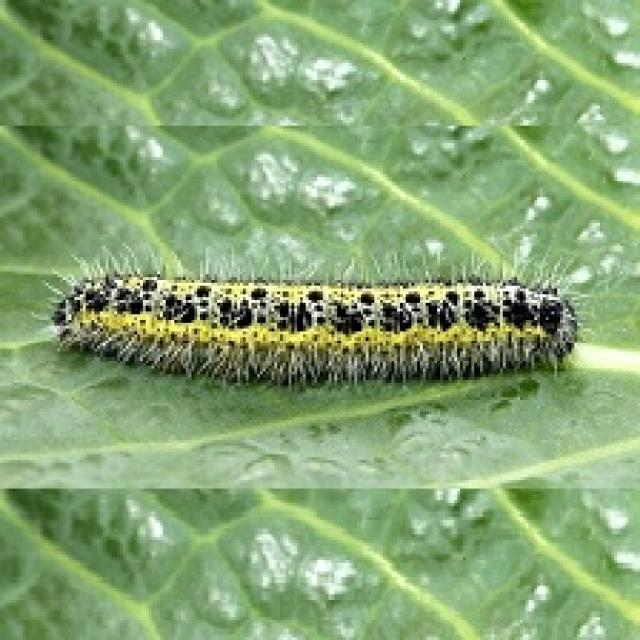Cabbage-worm: (56, 257, 592, 397)
